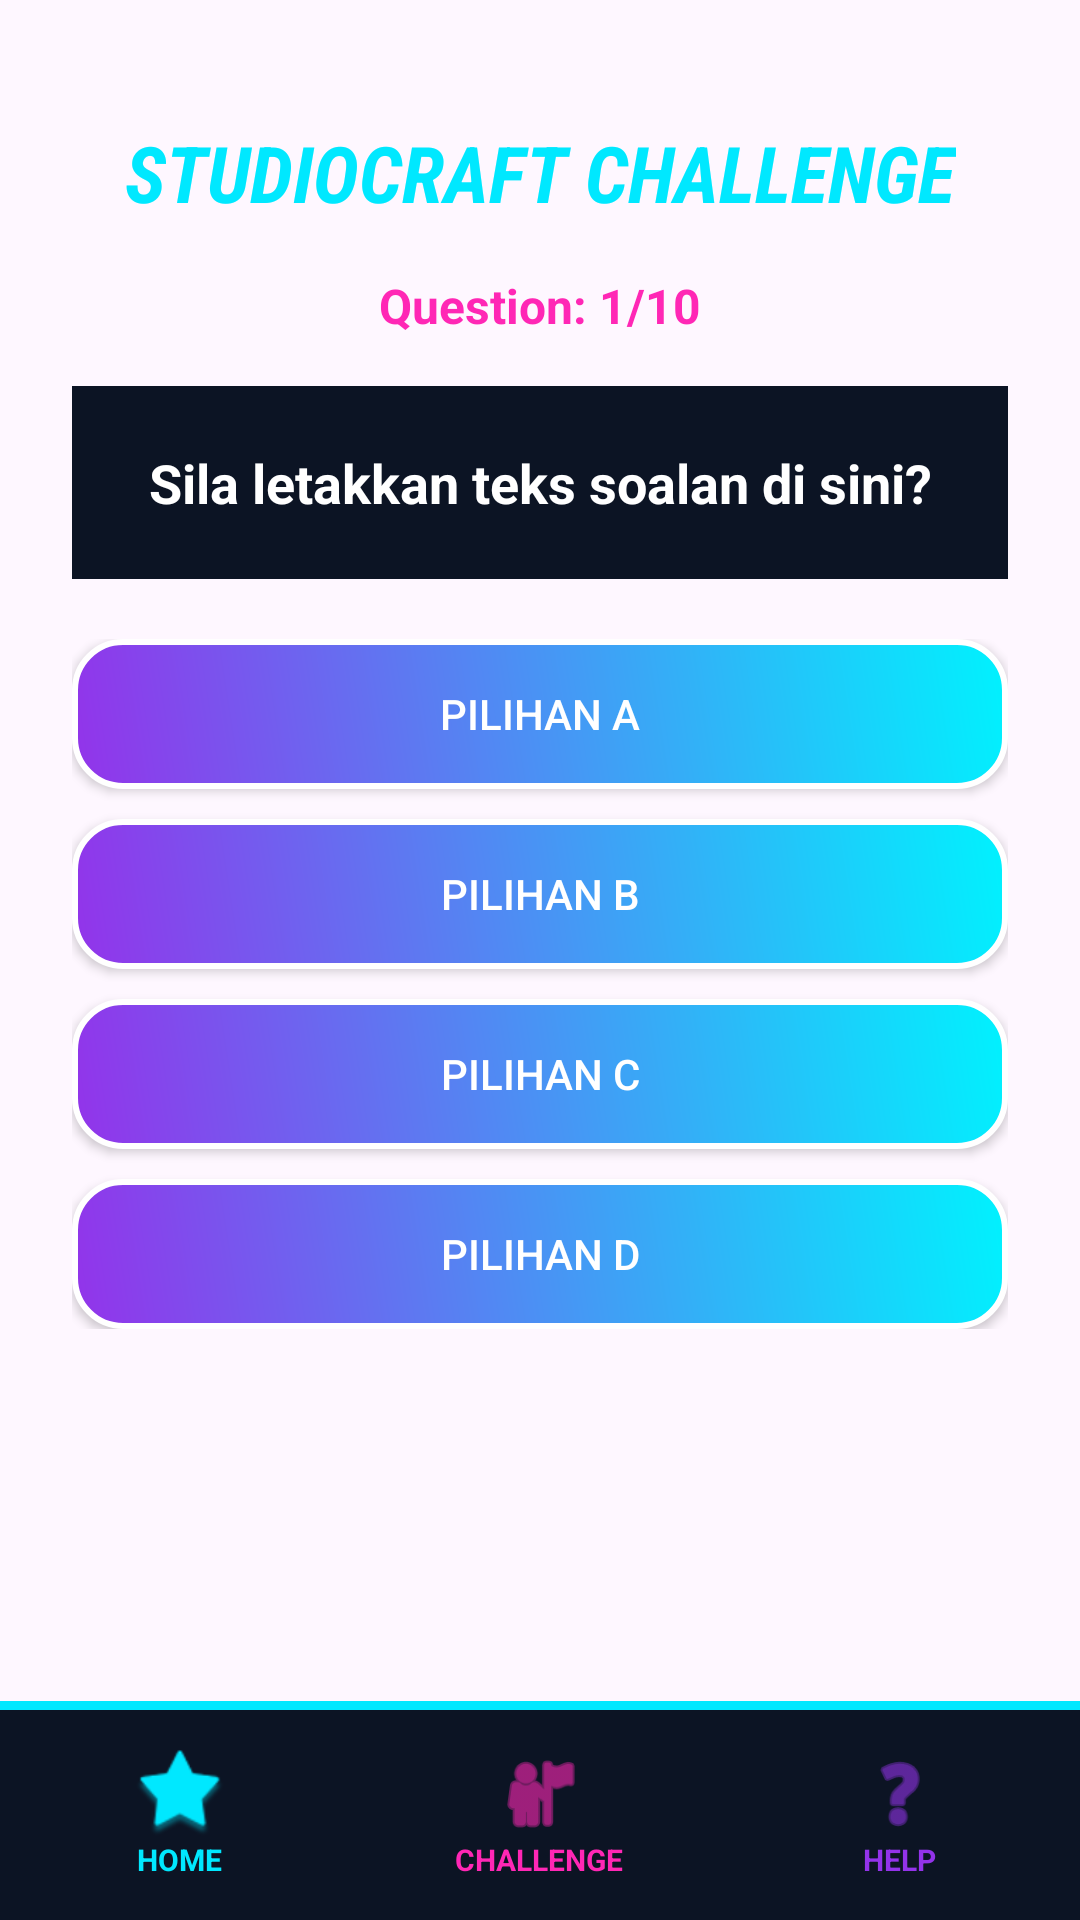

Point at icon controls on the screen. Image size 1080×1920, points as (x=x, y=y).
star on: (x=180, y=1790)
